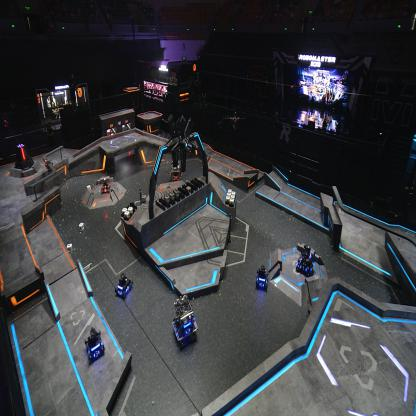car: (171, 294, 198, 348), (84, 326, 105, 365), (296, 244, 316, 280), (115, 272, 133, 299), (255, 265, 269, 291), (170, 159, 182, 183), (100, 177, 110, 195)
